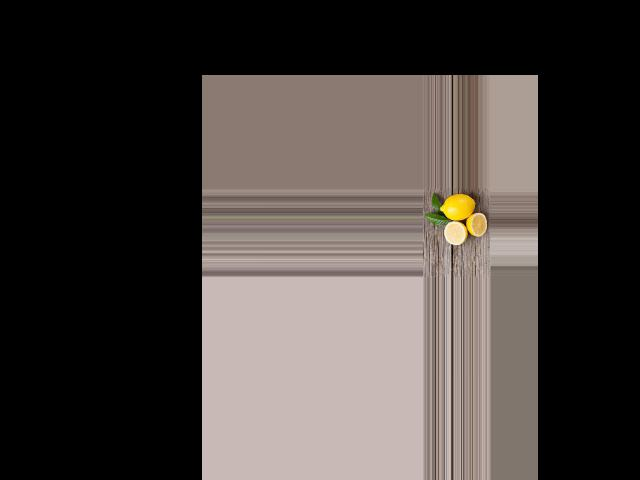lemon: (437, 195, 475, 222)
